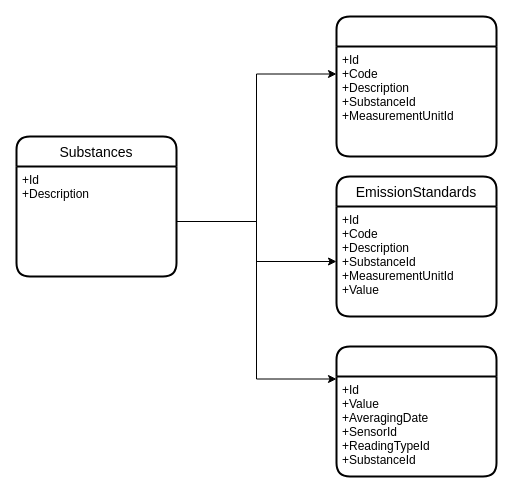
This 513x493 diagram has some shape labels left out. Each missing label, with the box of its shape:
AveragedReadings: (335, 345, 497, 477)
PollutantParams: (335, 15, 497, 157)
